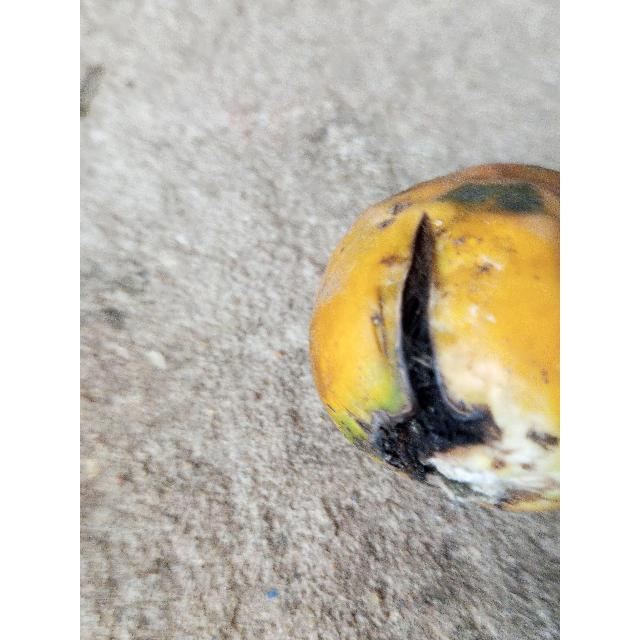damaged: (308, 164, 560, 516)
